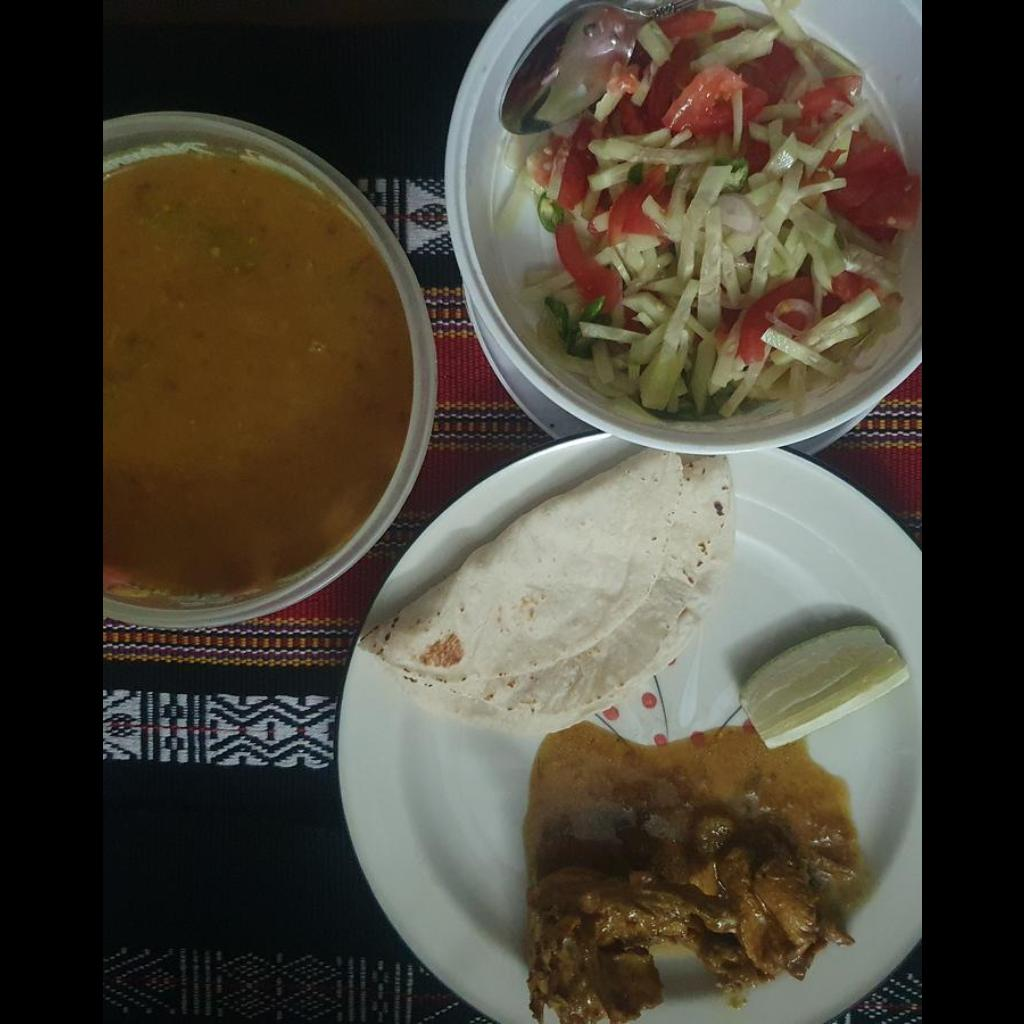chicken: (523, 821, 849, 1020)
daal: (102, 151, 414, 606)
lemon: (739, 625, 914, 745)
ruti: (365, 452, 735, 738)
salad: (490, 4, 919, 425)
